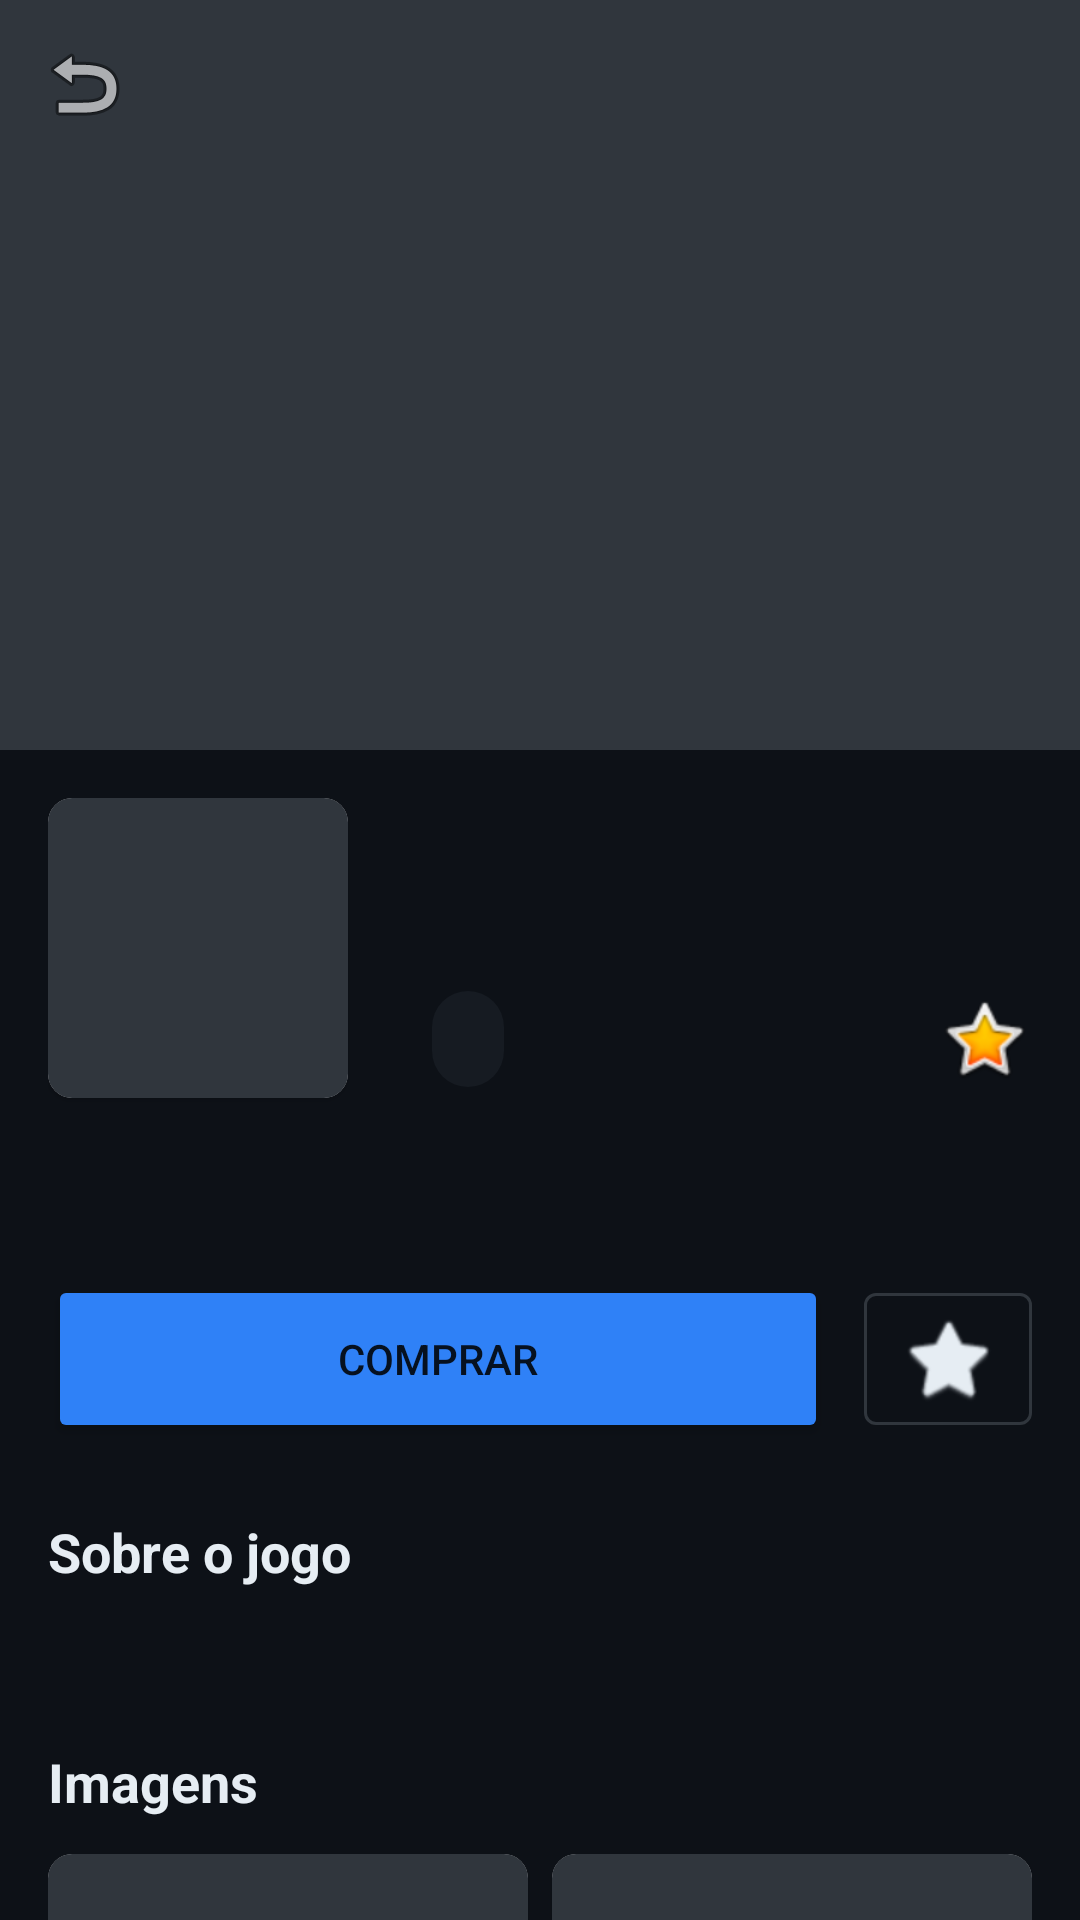

Named icons in this screenshot (1080×1920) and their bounding boxes, (x1, y1, x2, y2):
star off: (864, 1293, 1032, 1425)
